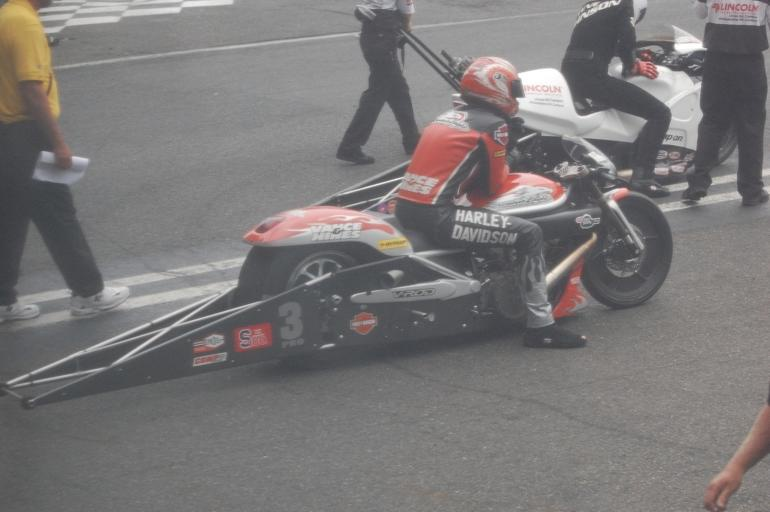non-vehicle: (1, 123, 673, 414), (306, 24, 734, 217)
